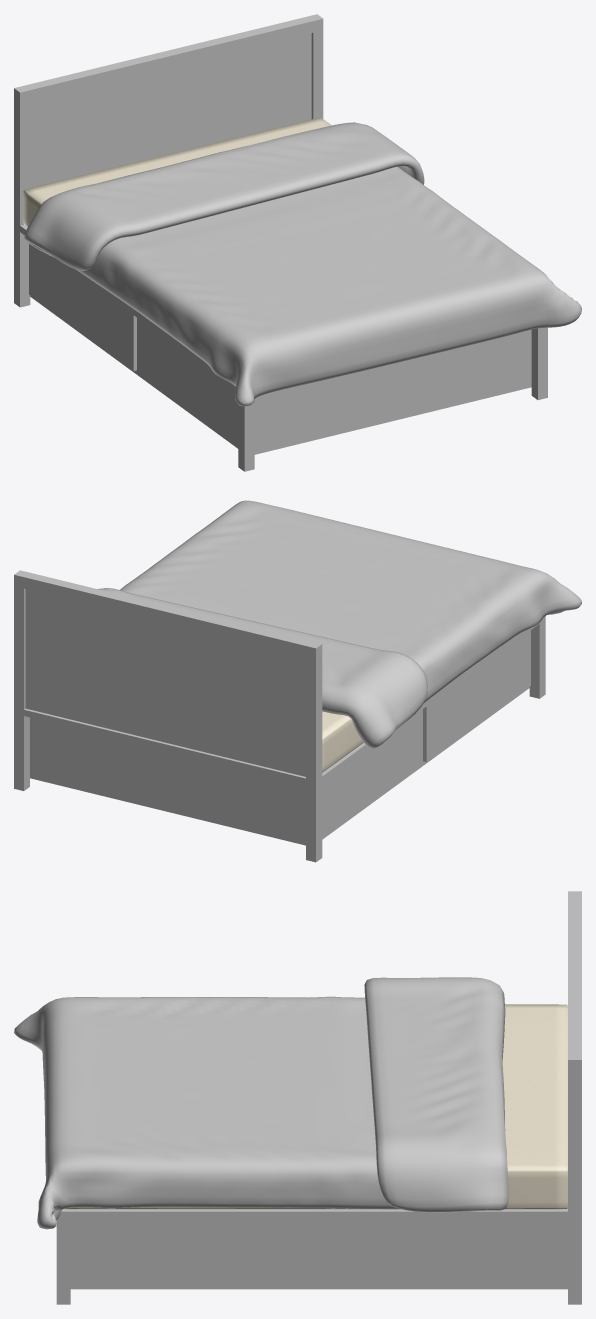
File: Bed12.fbx
3 views of the same model, one above another, from view 1: azimuth 30°, elevation 25°; view 2: azimuth 150°, elevation 25°; view 3: azimuth 270°, elevation 25° (orthographic). The views are drawn at different scales.
Visible parts, largest first — view 1: Blanket12, BedFrame12, BedFrame12_Drawer01, BedFrame12_Drawer02, Mattress12; view 2: BedFrame12, Blanket12, BedFrame12_Drawer02, BedFrame12_Drawer01, Mattress12; view 3: Blanket12, BedFrame12, Mattress12.
Part boxes in pixels (left/top/right/bottom): Blanket12: left=24, top=122, right=581, bottom=406; BedFrame12: left=14, top=14, right=547, bottom=471; BedFrame12_Drawer01: left=29, top=244, right=136, bottom=370; BedFrame12_Drawer02: left=137, top=318, right=238, bottom=447; Mattress12: left=23, top=117, right=331, bottom=227; BedFrame12: left=14, top=570, right=545, bottom=862; Blanket12: left=98, top=500, right=581, bottom=748; BedFrame12_Drawer02: left=423, top=630, right=530, bottom=762; BedFrame12_Drawer01: left=322, top=709, right=422, bottom=838; Mattress12: left=322, top=711, right=363, bottom=772; Blanket12: left=14, top=977, right=508, bottom=1229; BedFrame12: left=56, top=891, right=581, bottom=1304; Mattress12: left=64, top=1004, right=567, bottom=1209.
Bounding box in the file's own units: 191 × 108 × 227.
